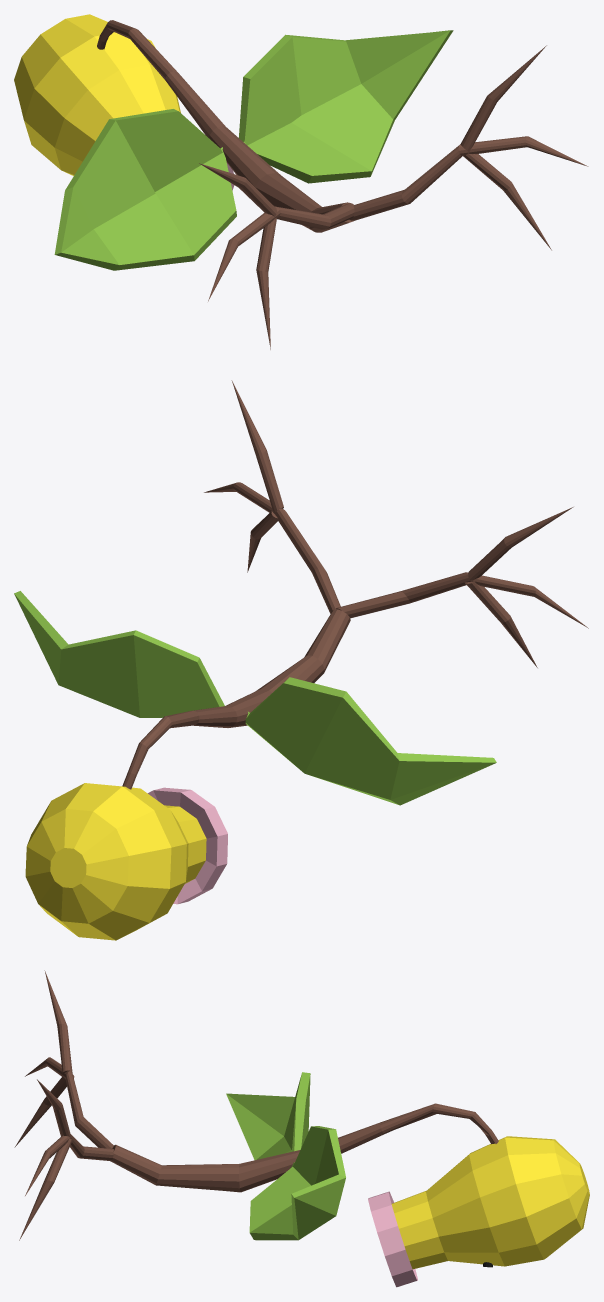
The model's file is Men_accessory_Bellsprout_2000.fbx.
3 views of the same model, one above another, from view 1: azimuth 30°, elevation 25°; view 2: azimuth 150°, elevation 25°; view 3: azimuth 270°, elevation 25° (orthographic). The views are drawn at different scales.
Parts seen in each view (by area): view 1: imagetostl_mesh2, imagetostl_mesh1, imagetostl_mesh4, imagetostl_mesh0, imagetostl_mesh7, imagetostl_mesh6; view 2: imagetostl_mesh4, imagetostl_mesh1, imagetostl_mesh2, imagetostl_mesh0, imagetostl_mesh6, imagetostl_mesh7, imagetostl_mesh3; view 3: imagetostl_mesh4, imagetostl_mesh2, imagetostl_mesh0, imagetostl_mesh1, imagetostl_mesh6, imagetostl_mesh7, imagetostl_mesh3.
Boxes of the visible parts, box(x1,y1,x2,y2) form: imagetostl_mesh2: box(239, 30, 453, 183); imagetostl_mesh1: box(54, 109, 236, 270); imagetostl_mesh4: box(14, 14, 180, 175); imagetostl_mesh0: box(97, 20, 353, 232); imagetostl_mesh7: box(349, 45, 588, 250); imagetostl_mesh6: box(199, 163, 354, 349); imagetostl_mesh4: box(25, 783, 206, 940); imagetostl_mesh1: box(245, 677, 496, 805); imagetostl_mesh2: box(14, 591, 224, 717); imagetostl_mesh0: box(122, 609, 350, 789); imagetostl_mesh6: box(335, 507, 588, 667); imagetostl_mesh7: box(204, 380, 340, 613); imagetostl_mesh3: box(148, 787, 227, 904); imagetostl_mesh4: box(391, 1136, 589, 1269); imagetostl_mesh2: box(249, 1126, 345, 1240); imagetostl_mesh0: box(110, 1103, 498, 1192); imagetostl_mesh1: box(226, 1072, 310, 1159); imagetostl_mesh6: box(14, 970, 113, 1149); imagetostl_mesh7: box(19, 1079, 113, 1240); imagetostl_mesh3: box(368, 1191, 417, 1287).
Size of the model in its own units: 216 by 151 by 294.
